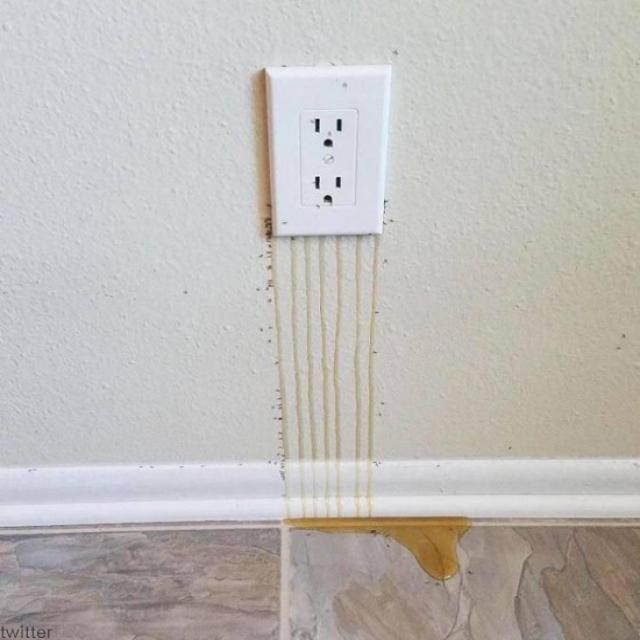typeb: (233, 47, 409, 265)
